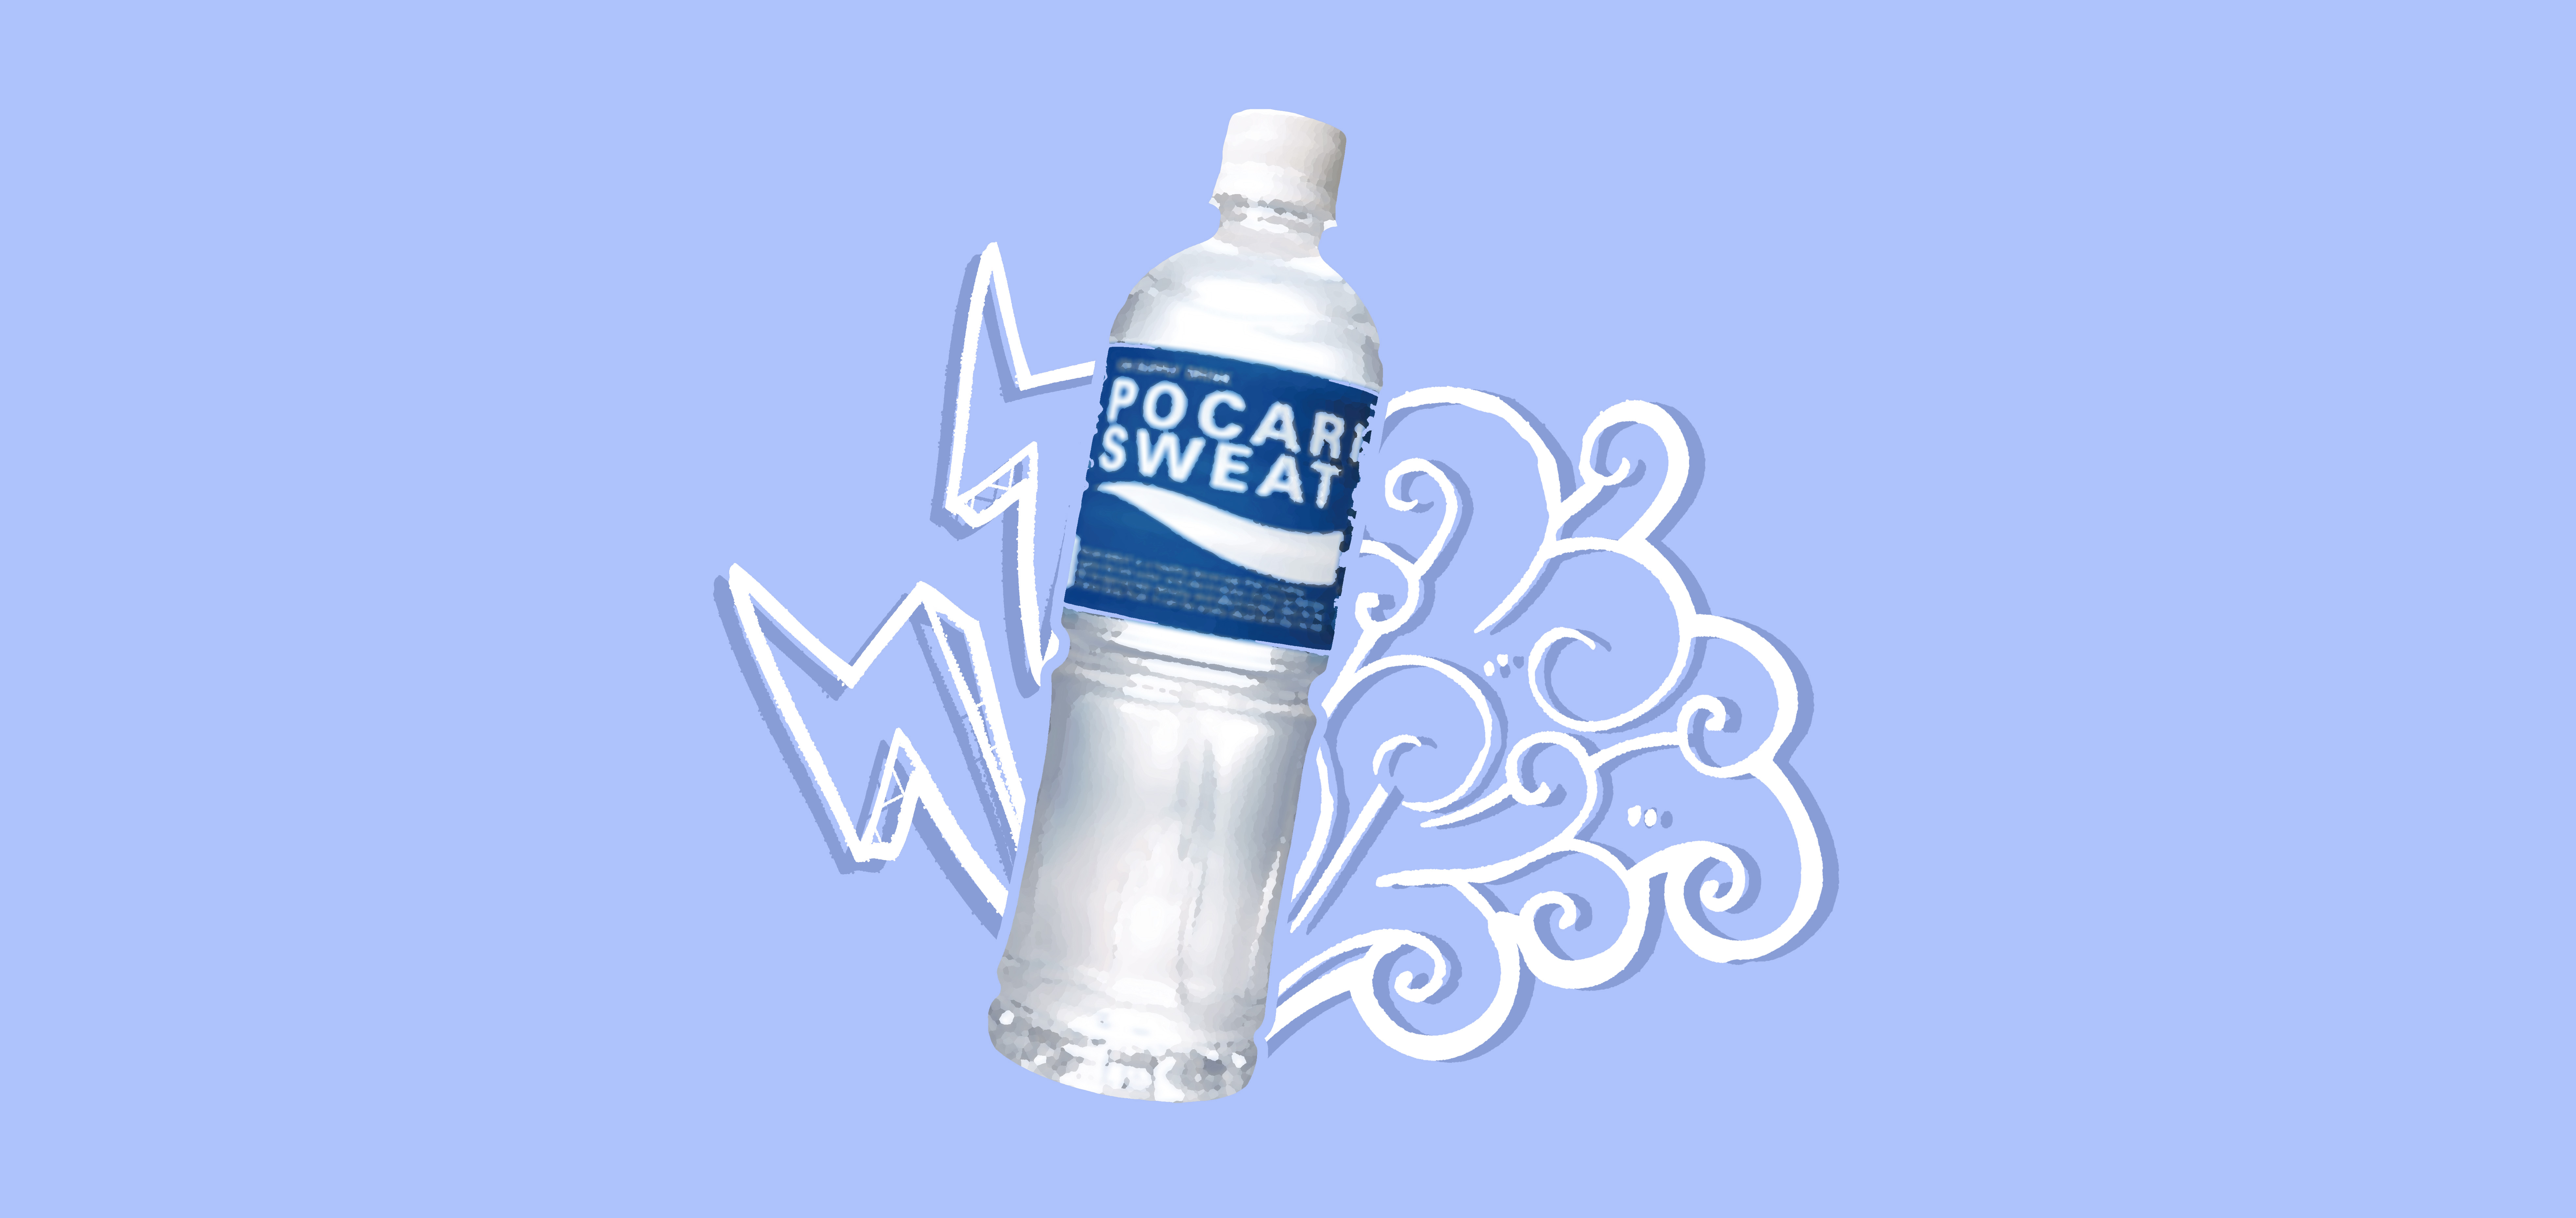POCARI SWEAT: (1002, 81, 1367, 1105)
